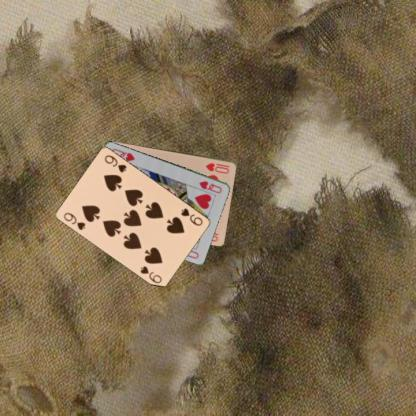10h: (203, 160, 231, 175)
9s: (61, 209, 87, 232), (178, 205, 204, 227)
Qh: (196, 178, 223, 195)
